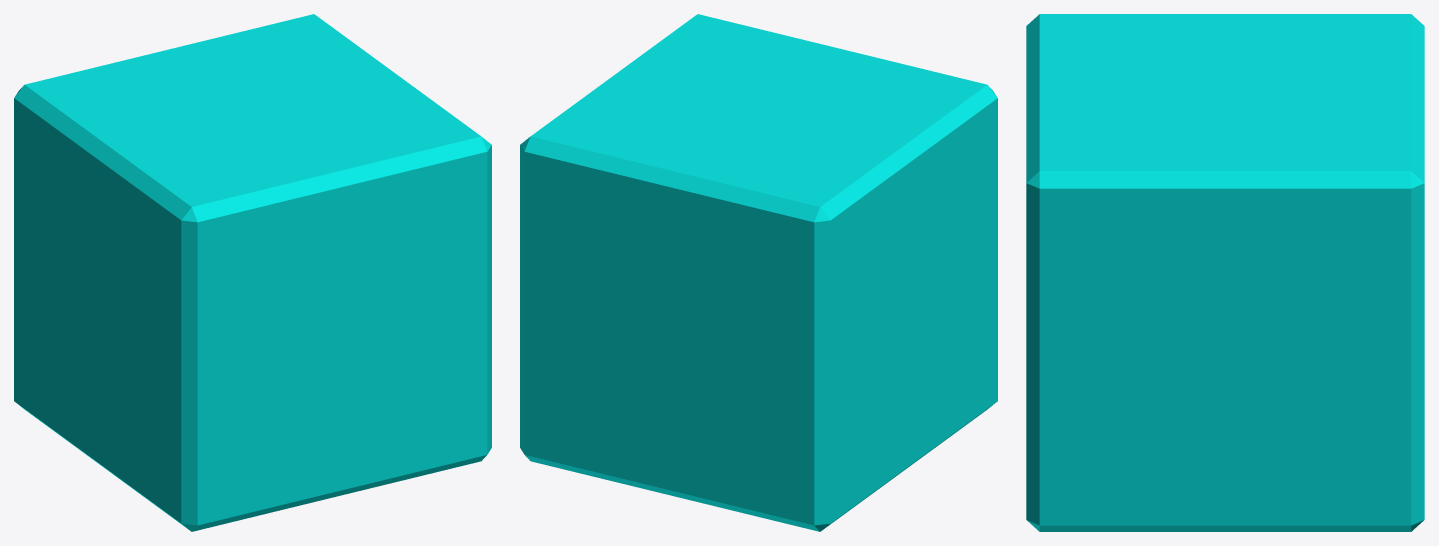
File: ground2.fbx
The picture shows the model from 3 angles, left to right: view 1: azimuth 30°, elevation 25°; view 2: azimuth 150°, elevation 25°; view 3: azimuth 270°, elevation 25°; orthographic projection. The views are drawn at different scales.
Parts seen in each view (by area): view 1: pCube3; view 2: pCube3; view 3: pCube3.
Boxes of the visible parts, x1,y1,x2,y2 form: pCube3: (14,14,491,531); pCube3: (520,14,997,531); pCube3: (1026,14,1424,531).
Size of the model in its own units: 1 by 1 by 1.
